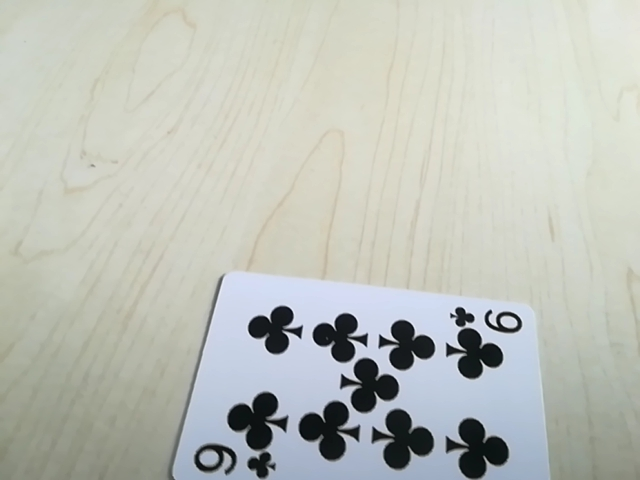mh 9: (448, 302, 529, 336), (193, 450, 279, 479)
